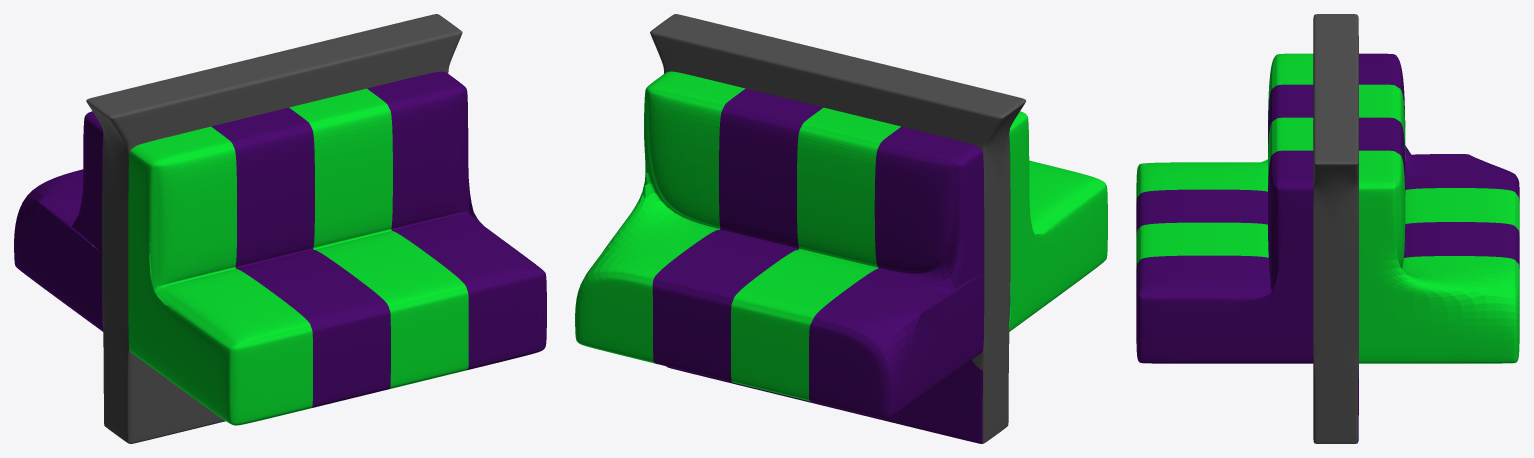
File: better Booth LEONE version with stains WITH SUBDIVISION.fbx
3 renders of one model, left to right at view 1: azimuth 30°, elevation 25°; view 2: azimuth 150°, elevation 25°; view 3: azimuth 270°, elevation 25°, orthographic. The views are drawn at different scales.
Visible parts, largest first — view 1: Cube; view 2: Cube; view 3: Cube.
Part boxes in pixels (x1,y1,x2,y2): Cube: [14, 14, 546, 443]; Cube: [575, 14, 1107, 443]; Cube: [1136, 14, 1519, 443].
Bounding box in the file's own units: 440 × 397 × 477.
